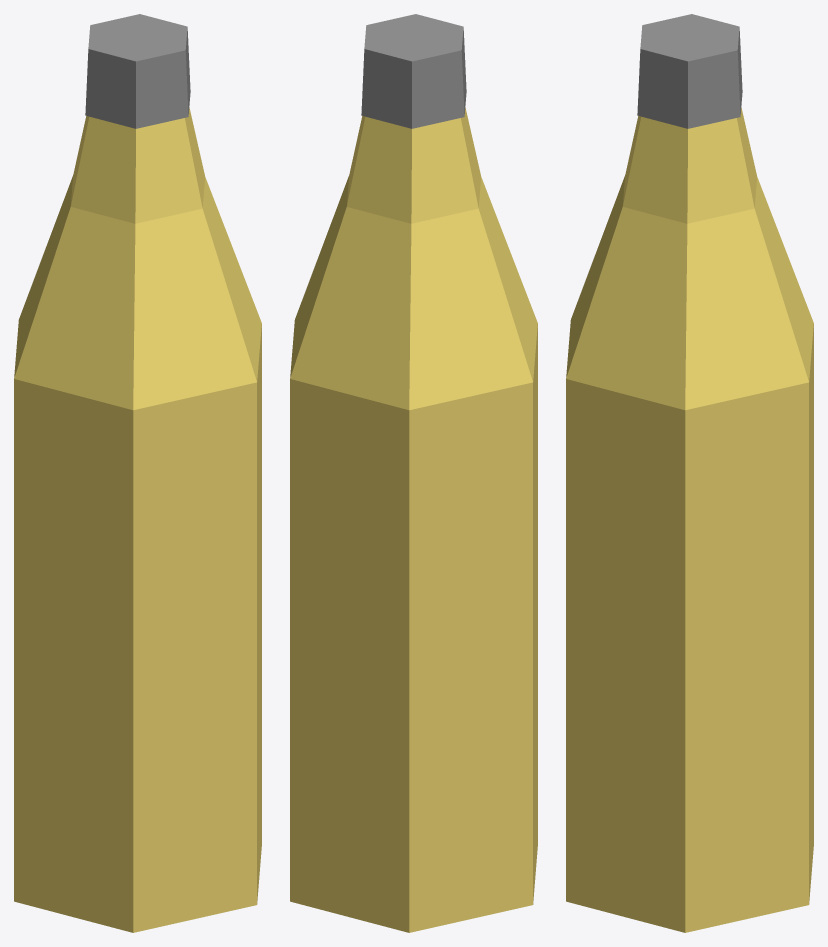
Rendered from Bottle_12.fbx.
3 views of the same model, side by side, from view 1: azimuth 30°, elevation 25°; view 2: azimuth 150°, elevation 25°; view 3: azimuth 270°, elevation 25° (orthographic).
Parts seen in each view (by area): view 1: Bottle_12; view 2: Bottle_12; view 3: Bottle_12.
Part boxes in pixels (x1,y1,x2,y2): Bottle_12: (14, 14, 261, 932); Bottle_12: (290, 14, 537, 932); Bottle_12: (566, 14, 813, 932).
Bounding box in the file's own units: 9.8 × 8.65 × 32.19.
